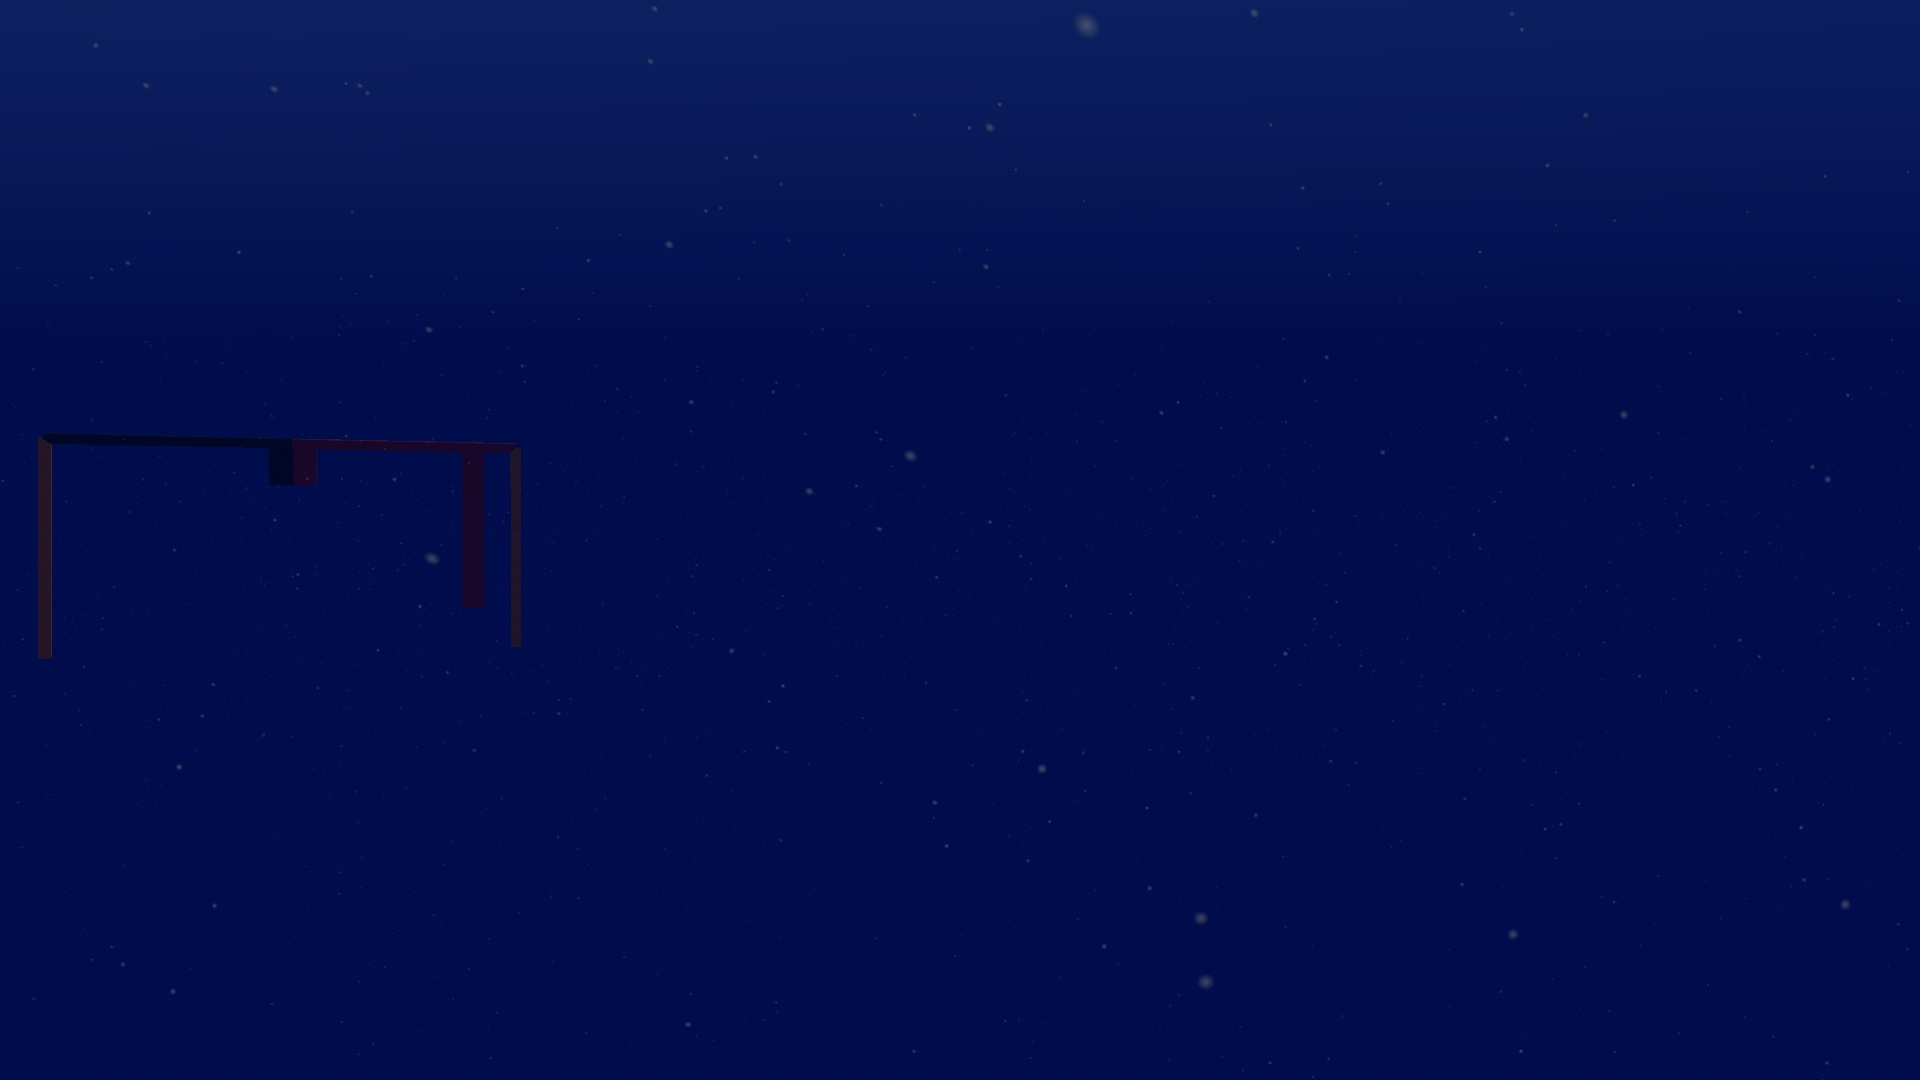Gate: (32, 423, 529, 667)
